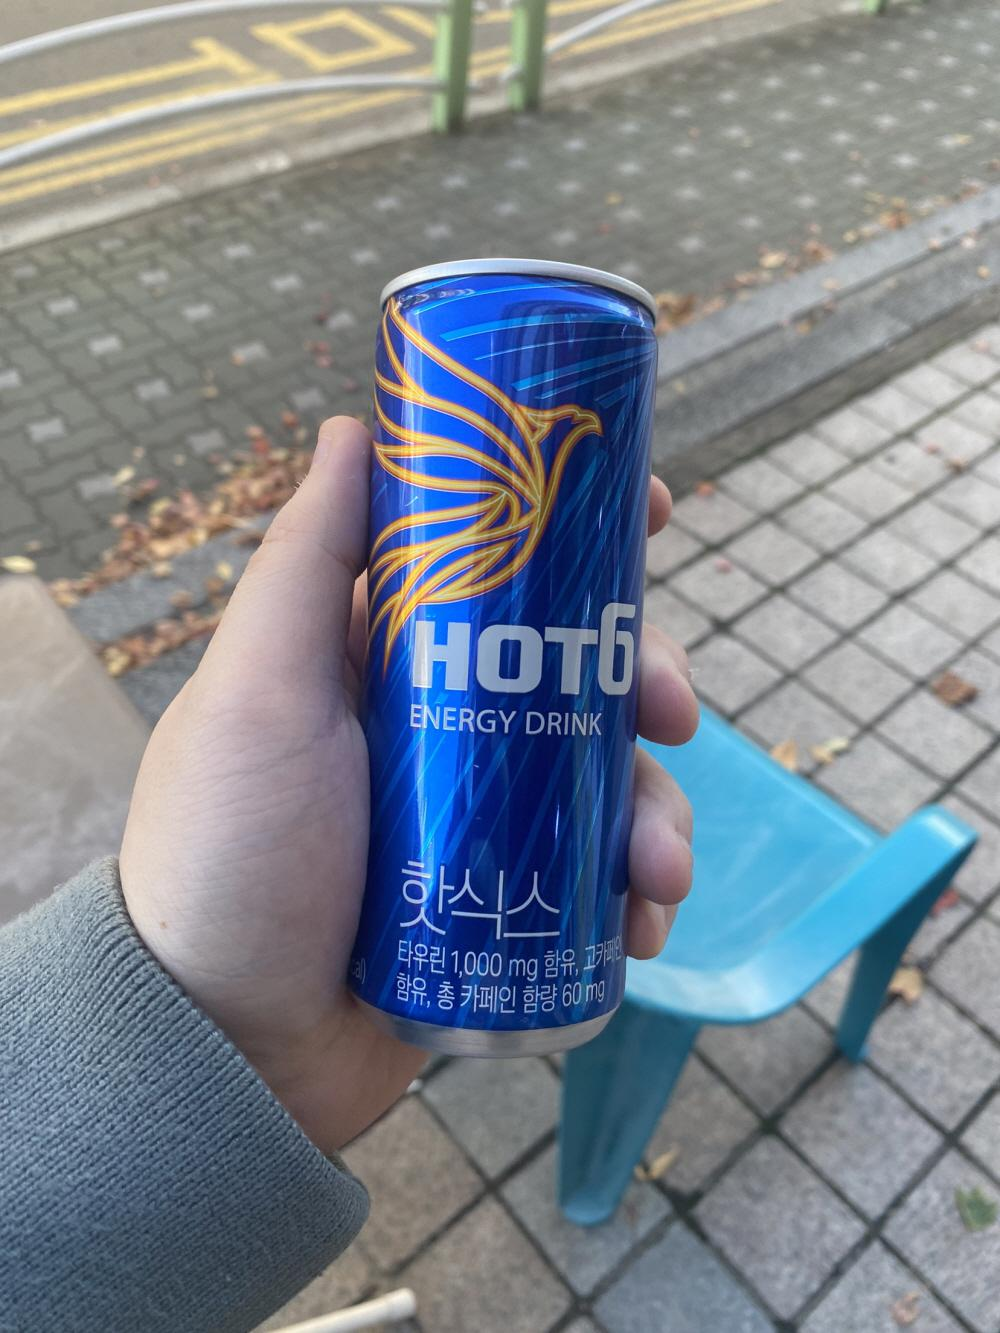hotsix_org: (368, 244, 664, 1059)
